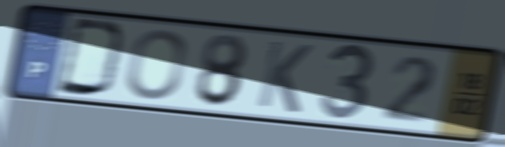2: (380, 55, 441, 127)
3: (317, 40, 377, 126)
8: (192, 32, 250, 110)
D: (53, 15, 131, 100)
K: (253, 37, 316, 116)
O: (124, 27, 189, 103)
